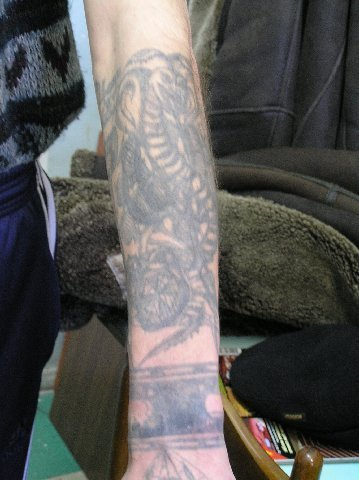tatu7_zmeya: (94, 58, 220, 360)
